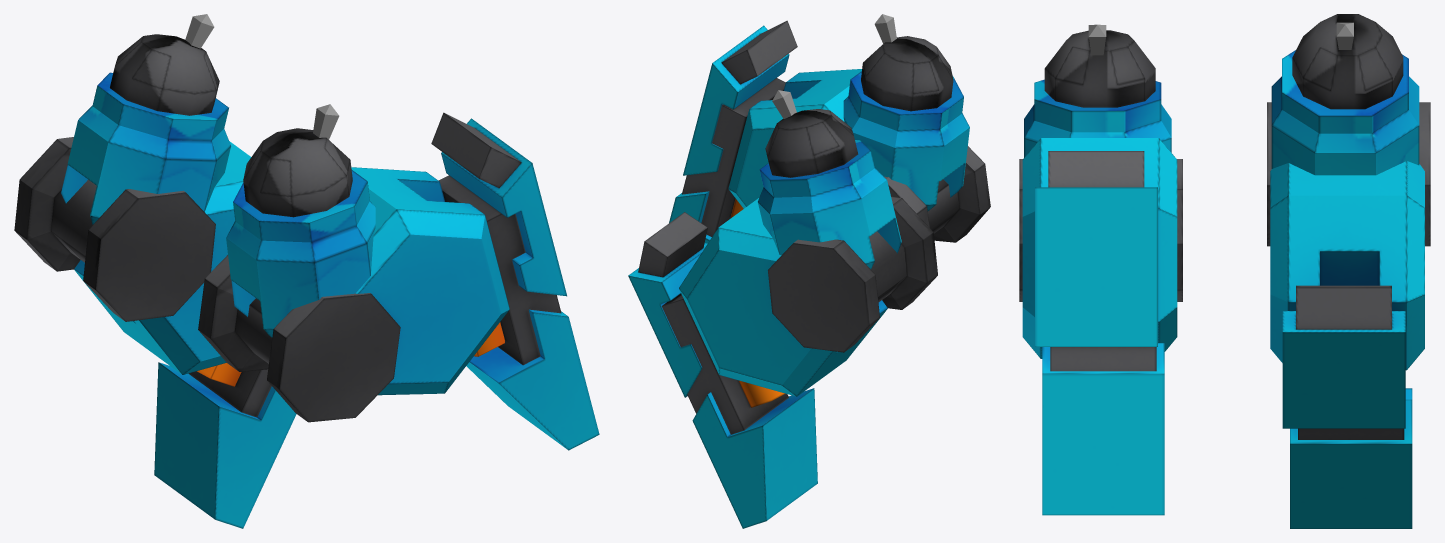
The model's file is Bottom_Running5.obj.
3 views of the same model, side by side, from view 1: azimuth 30°, elevation 25°; view 2: azimuth 150°, elevation 25°; view 3: azimuth 270°, elevation 25° (orthographic). The views are drawn at different scales.
Visible parts, largest first — view 1: Object013, Object010, Object014, Object012, Object009, Object011, Bone006; view 2: Object010, Object011, Object009, Object012, Object014, Object013, Bone023, Bone006; view 3: Object014, Object011, Object010, Object009, Object012, Object013, Bone023.
Boxes of the visible parts, x1=… form: Object013: x1=198, y1=167, x2=509, y2=422; Object010: x1=14, y1=137, x2=251, y2=374; Object014: x1=431, y1=112, x2=599, y2=450; Object012: x1=226, y1=128, x2=375, y2=337; Object009: x1=61, y1=34, x2=230, y2=224; Object011: x1=154, y1=362, x2=296, y2=528; Bone006: x1=185, y1=14, x2=214, y2=48; Object010: x1=679, y1=196, x2=937, y2=396; Object011: x1=628, y1=212, x2=817, y2=528; Object009: x1=758, y1=109, x2=901, y2=269; Object012: x1=843, y1=36, x2=969, y2=211; Object014: x1=669, y1=20, x2=797, y2=243; Object013: x1=728, y1=69, x2=990, y2=242; Bone023: x1=874, y1=14, x2=896, y2=43; Bone006: x1=772, y1=90, x2=796, y2=118; Object014: x1=1035, y1=151, x2=1164, y2=515; Object011: x1=1282, y1=285, x2=1412, y2=528; Object010: x1=1267, y1=102, x2=1430, y2=370; Object009: x1=1271, y1=14, x2=1419, y2=175; Object012: x1=1024, y1=30, x2=1171, y2=157; Object013: x1=1019, y1=138, x2=1182, y2=358; Bone023: x1=1088, y1=24, x2=1106, y2=55.
Bounding box in the file's own units: 105 × 127 × 94.84.
